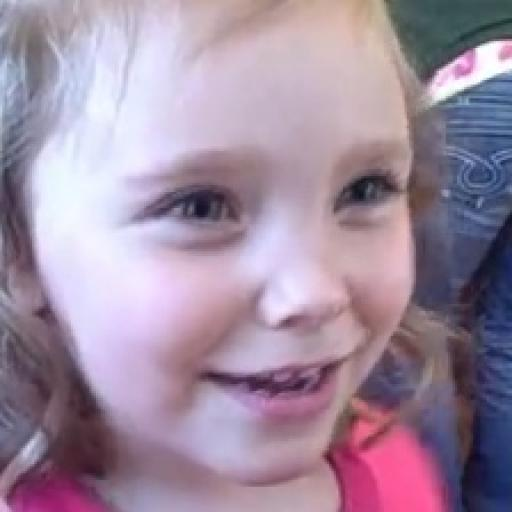Autism: (36, 6, 480, 490)
